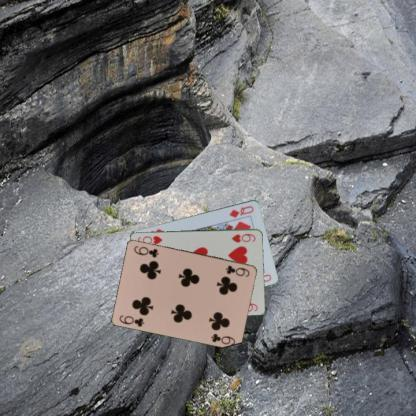6c: (116, 312, 146, 328), (223, 262, 250, 278)
6h: (230, 232, 257, 244)
Qd: (228, 203, 255, 219)
